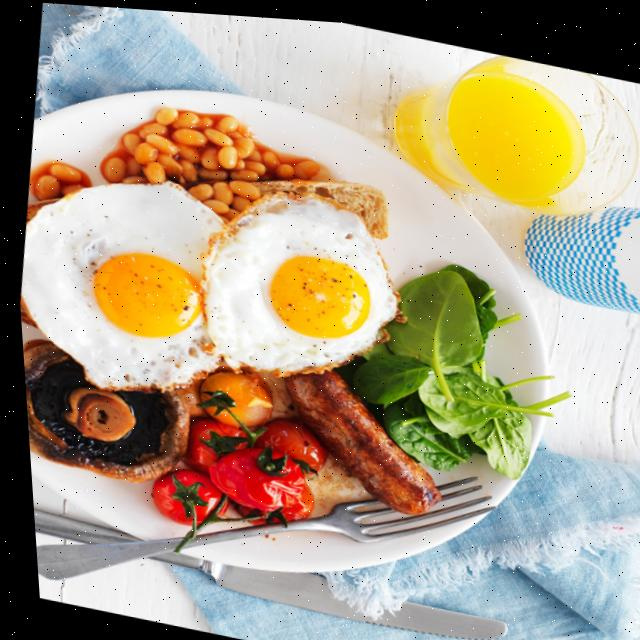Egg: (18, 181, 218, 389), (196, 189, 395, 373)
